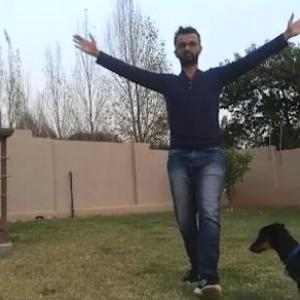takeoff: (60, 0, 299, 283)
